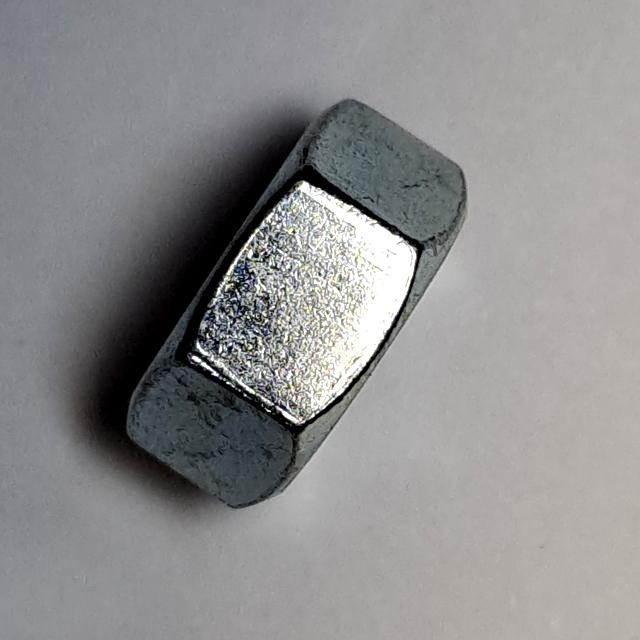Side_Excellent: (99, 79, 505, 526)
